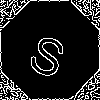S: (25, 25, 73, 80)
